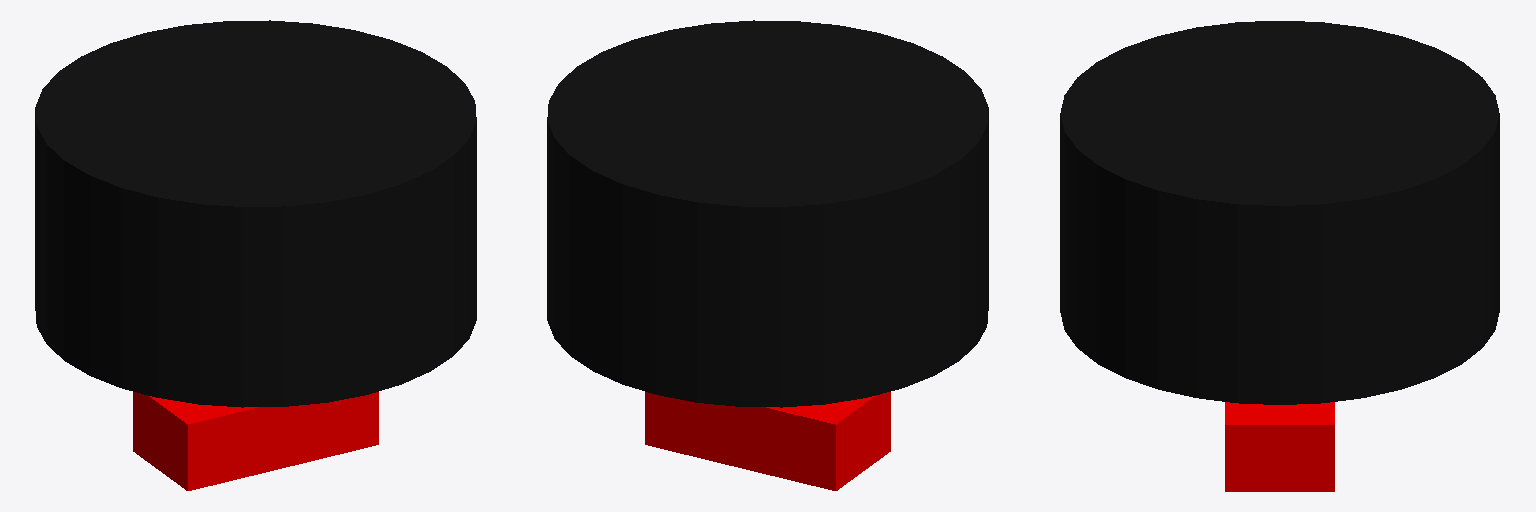
URDF robot description (test_bot):
<?xml version="1.0" ?>

<robot name="test_bot">

    <!-- Link - chassis -->
    <!--USE FOR ROBOT STATUS PUBLISHER-->

    <link name="rviz_base_link">
    </link>

    <link name="body_link">
        <inertial>
            <mass value="10" />
            <origin xyz="0 0 0.0" rpy="0 0 0" />
            <inertia ixx="1.5417" ixy="0" ixz="0" iyy="3.467" iyz="0" izz="4.742" />
        </inertial>

        <collision>
            <origin rpy="0 0 0" xyz="0 0 0"/>
            <geometry>
               <box size="0.3 0.15 0.1"/>
            </geometry>
        </collision>

        <visual>
            <origin rpy="0 0 0" xyz="0 0 0"/>
            <geometry>
             <box size="0.3 0.15 0.1"/>
            </geometry>
            <material name="Red">
                <color rgba="1 0 0 1" />
            </material>
        </visual>
    </link>

    <joint name="base_joint" type="fixed">
        <parent link="rviz_base_link"/>
        <child link="body_link"/>
        <origin xyz="0.0 0 0.0" rpy="0 0 0"/>
    </joint>
    
    <link name="cam">
        <inertial>
            <mass value="1" />
            <origin xyz="0 0 0" rpy="0 0 0" />
            <inertia ixx="0.002526666666667" ixy="0" ixz="0" iyy="0.002526666666667" iyz="0" izz="0.005"/>
        </inertial>

        <collision>
            <origin rpy="0 0 0" xyz="0 0 0.3" />
            <geometry>
                <cylinder length="0.3" radius="0.3"/>
            </geometry>
        </collision>

        <visual>
            <origin rpy="0 0 0" xyz="0 0 0.3" />
            <geometry>
                <cylinder length="0.3" radius="0.30"/>
            </geometry>
            <material name="Black">
                <color rgba="0.1 0.1 0.1 1" />
            </material>
        </visual>
    </link>
    
    <joint name="joint_baselink_to_cam" type="fixed">
        <origin rpy="0 0 0" xyz="0 0 0" />
        <child link="cam" />
        <parent link="body_link" />
    </joint>
    

 <!--planer drive controll-->
    
    <gazebo>
        <plugin name="object_controller" filename="libgazebo_ros_planar_move.so">
        <commandTopic>cmd_vel</commandTopic>
        <cmdTimeout>-1.00</cmdTimeout>
        <odometryTopic>gazebo_odom</odometryTopic>
        <odometryFrame>gazebo_odom</odometryFrame>
        <odometryRate>20.0</odometryRate>
        <robotBaseFrame>base_link</robotBaseFrame>
        </plugin>
    </gazebo>


</robot>

--- Facts derived from the render (not from the file) ---
The picture shows the robot from 3 angles, left to right: view 1: azimuth 30°, elevation 25°; view 2: azimuth 150°, elevation 25°; view 3: azimuth 270°, elevation 25°; orthographic projection.
Model test_bot with 3 links and 2 joints (2 fixed), rooted at rviz_base_link, posed every joint at zero.
Links seen in each view (by area): view 1: cam, body_link; view 2: cam, body_link; view 3: cam, body_link.
Boxes of the visible links, <box> form: cam: <box>35,20,476,407</box>; body_link: <box>133,392,378,490</box>; cam: <box>547,20,988,407</box>; body_link: <box>645,392,890,490</box>; cam: <box>1060,21,1499,404</box>; body_link: <box>1225,402,1334,491</box>.
Size in the robot's own frame: 0.6 by 0.6 by 0.5 metres.
Geometry: primitives only (box / cylinder / sphere), no mesh files.